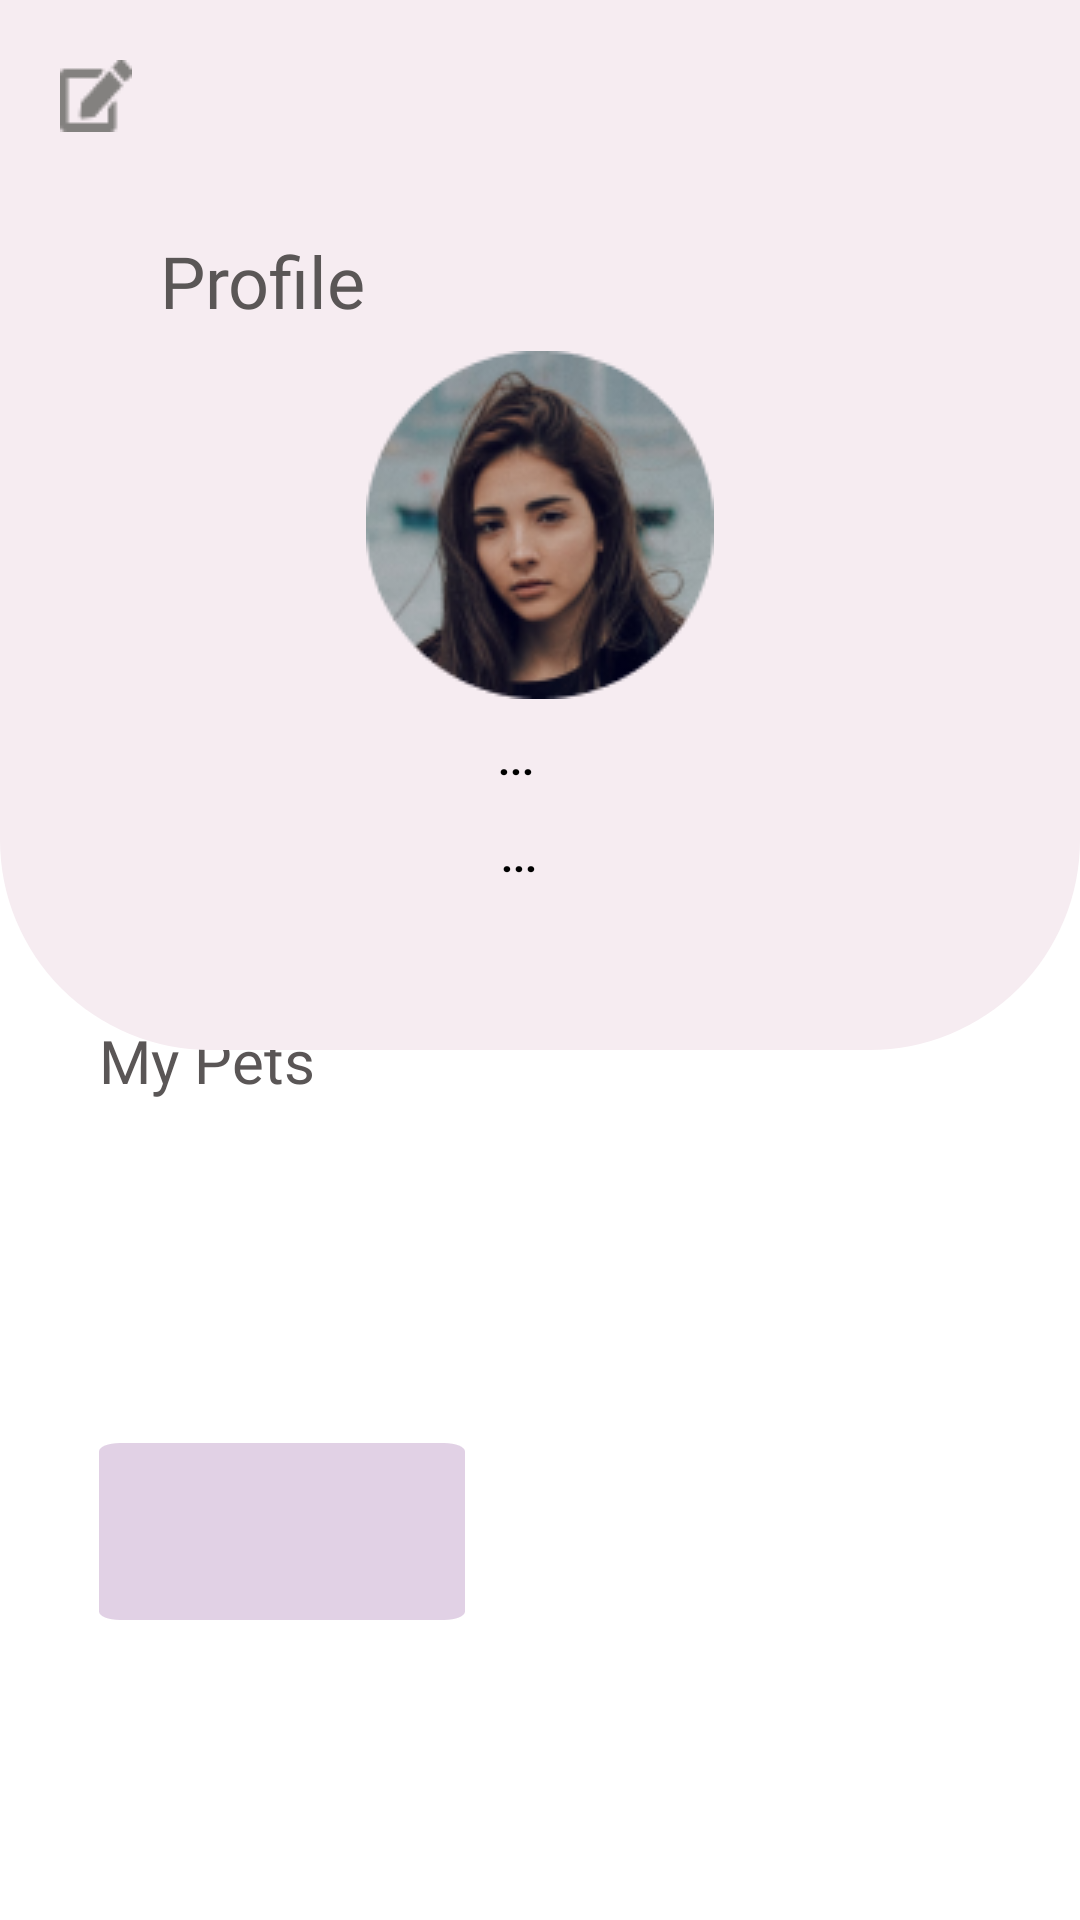

Named icons in this screenshot (1080x1920) and their bounding boxes, (x1=x1, y1=y1, x2=x2, y2=y2):
edit: (x1=60, y1=60, x2=132, y2=132)
